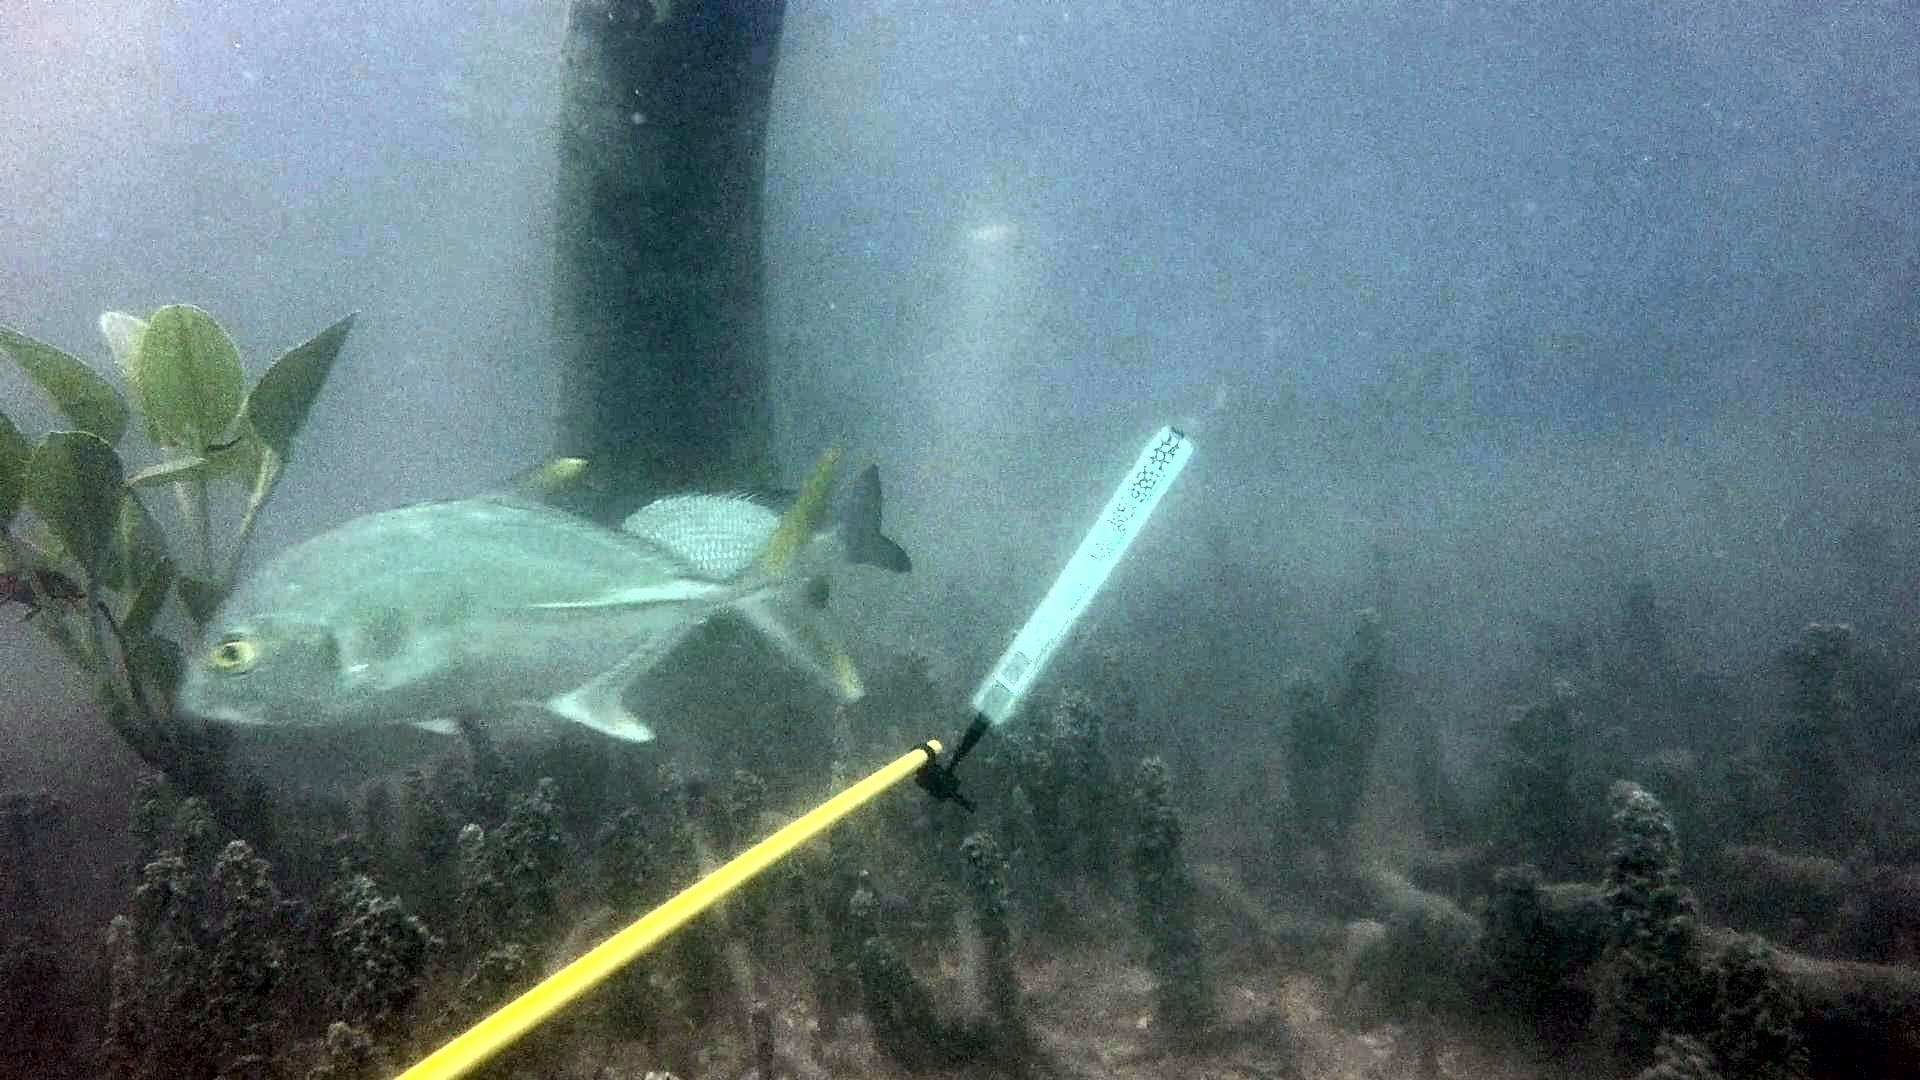caranx: (170, 443, 874, 749)
